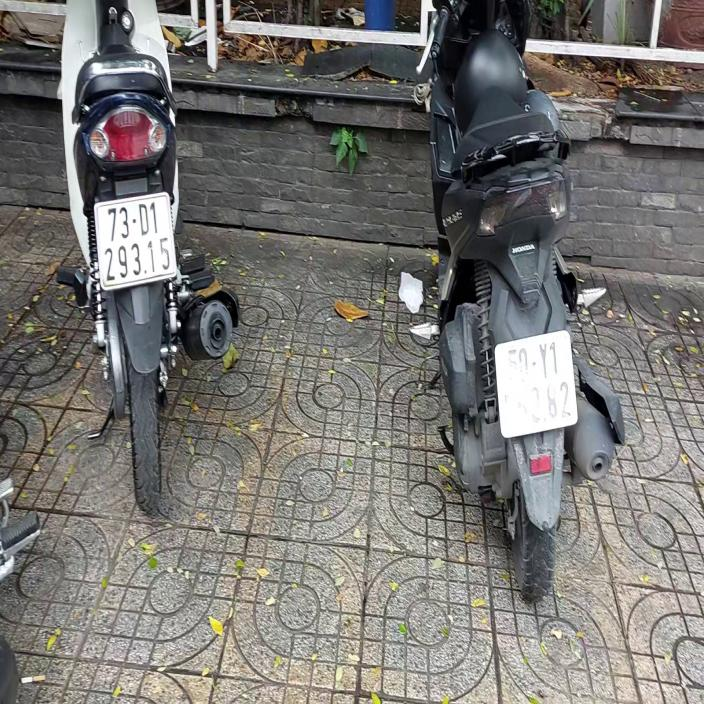numplate: (488, 315, 589, 463), (87, 200, 186, 291)
